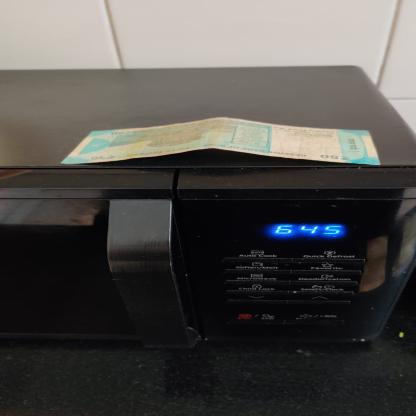New50Back: (59, 117, 388, 167)
